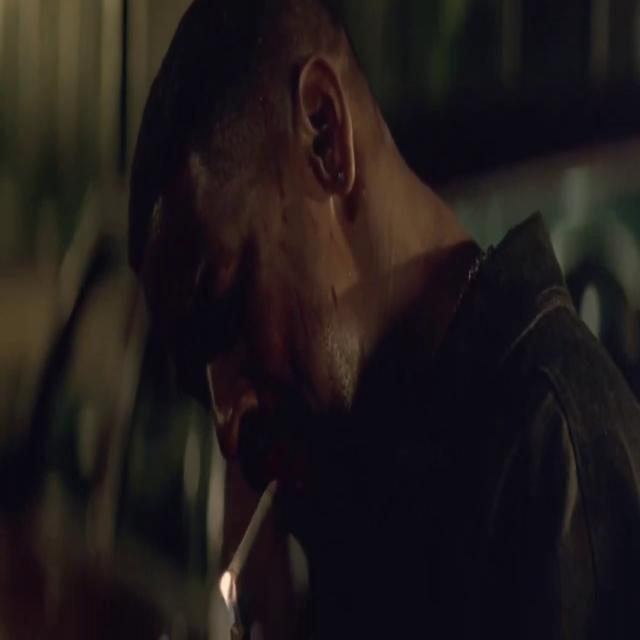Smooking: (218, 453, 286, 614)
